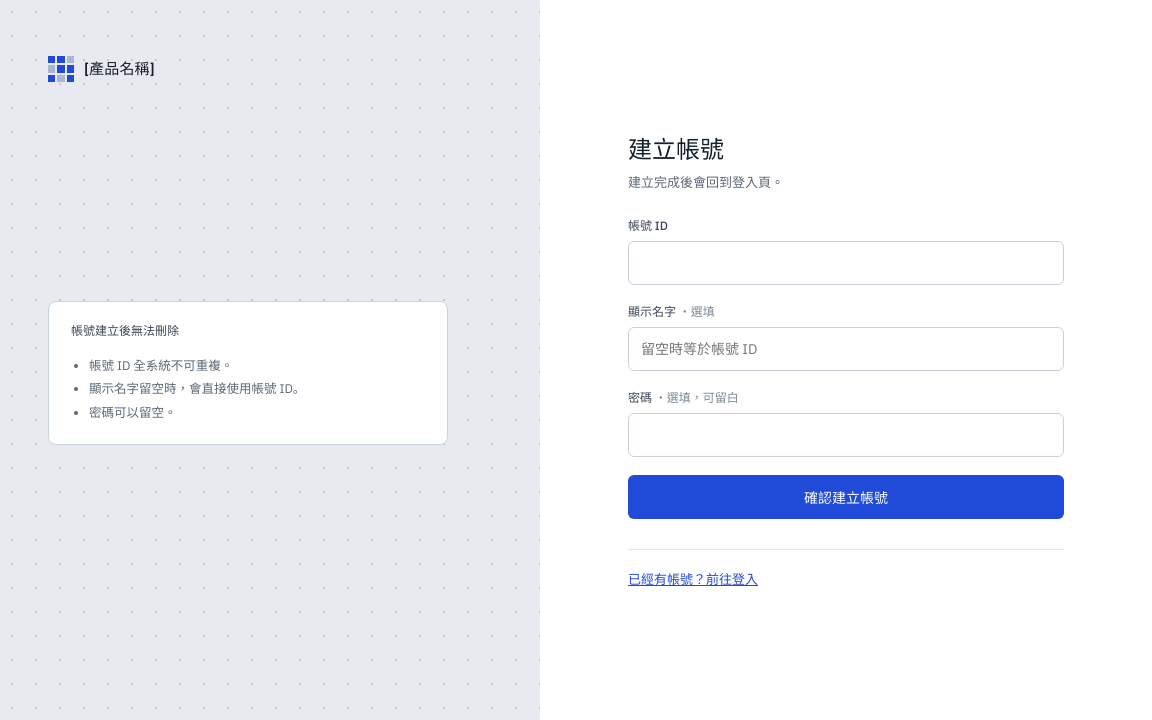
Test: s-signup › 帳號 ID 與系統中既有帳號重複時確認建立帳號，觸發 uc-create-user，輸入內容保留、顯示訊息
The image size is (1152, 720).
expect the heading "建立帳號" is shown: met, box [628,133,724,165]
Type "user1" into the field labelled "帳號 ID" at (846, 262), box [628,240,1064,284]
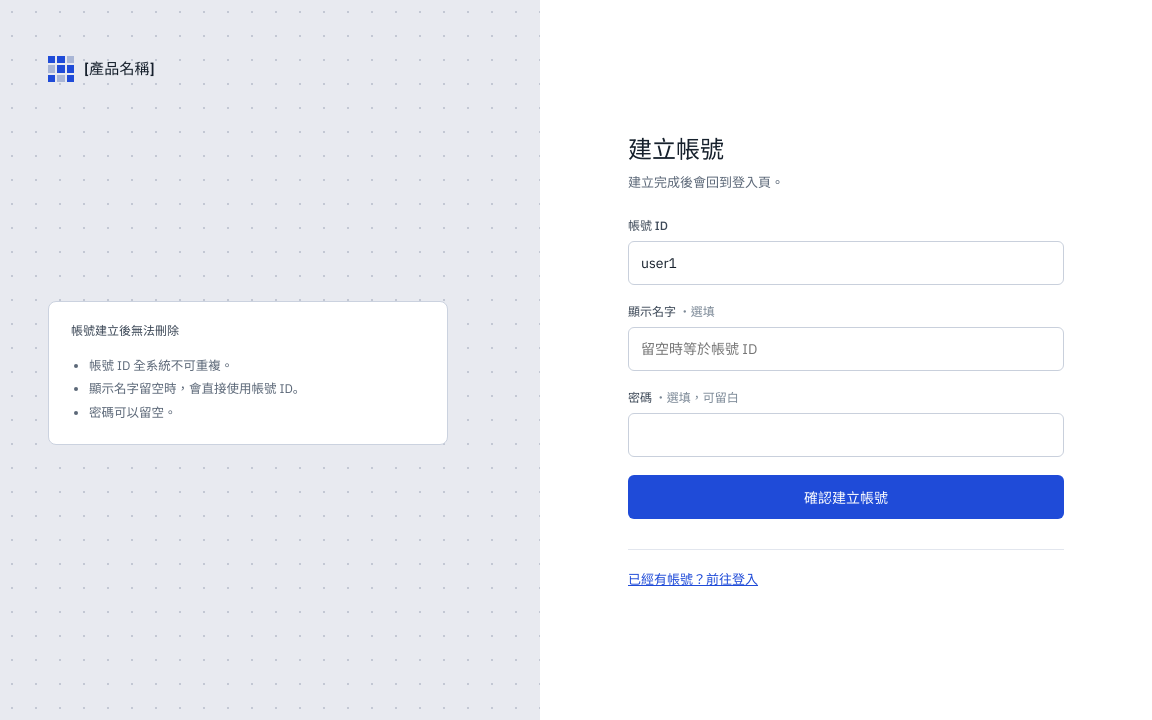
Click the button "確認建立帳號" at (846, 496), box [628,474,1064,518]
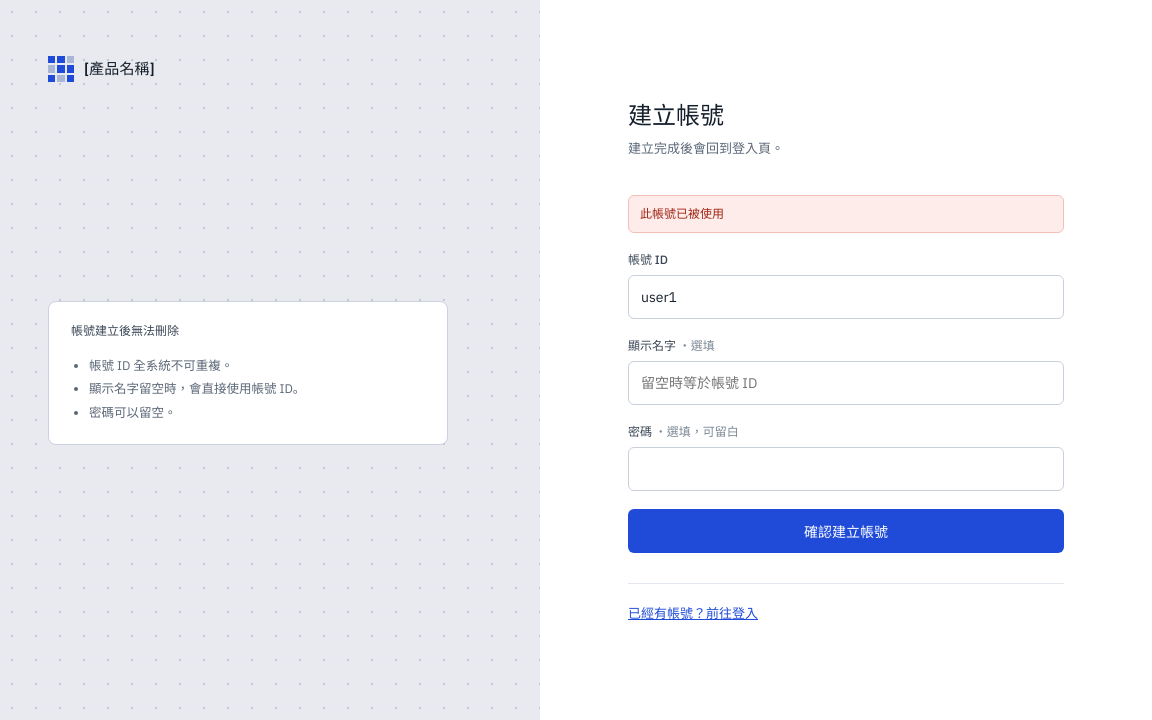
expect the message reads "此帳號已被使用": met, box [640,206,724,220]
